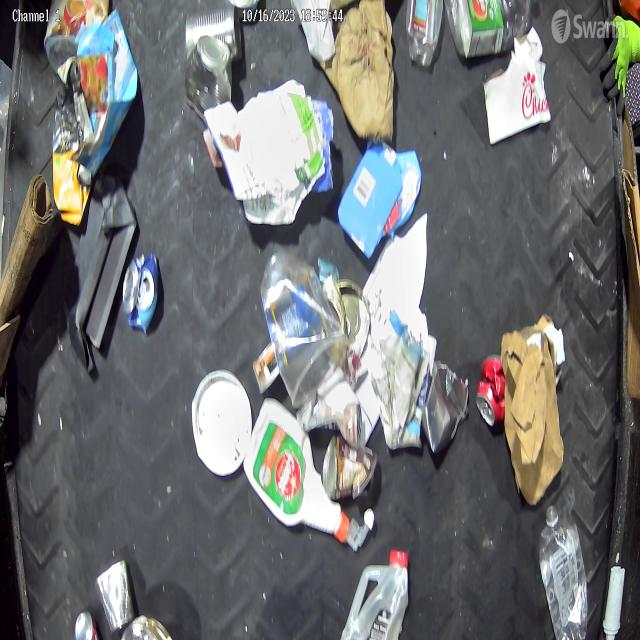can: (422, 362, 469, 456), (184, 35, 233, 125), (323, 277, 370, 365), (322, 432, 378, 503), (185, 5, 242, 62), (122, 251, 160, 335), (96, 558, 136, 633), (476, 355, 506, 428), (120, 615, 173, 640), (74, 611, 99, 640)
milk_jug: (244, 400, 350, 546), (342, 549, 411, 640)
non_white_jug: (338, 145, 422, 259)
plastic_bottle: (539, 503, 588, 640)
